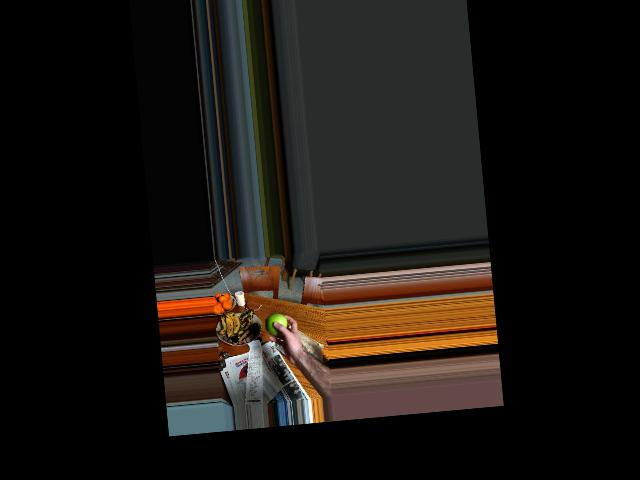apple: (264, 312, 289, 338)
